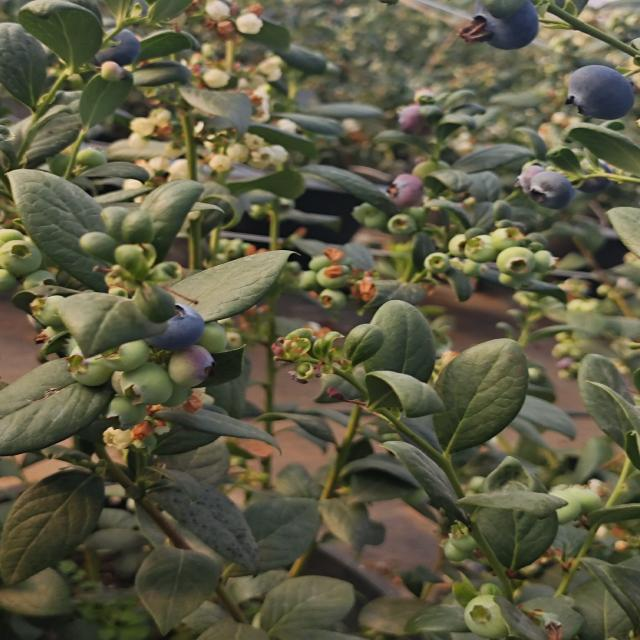ripe: (561, 63, 636, 123), (143, 301, 209, 353), (474, 0, 538, 47), (516, 156, 572, 208), (109, 34, 151, 68)
